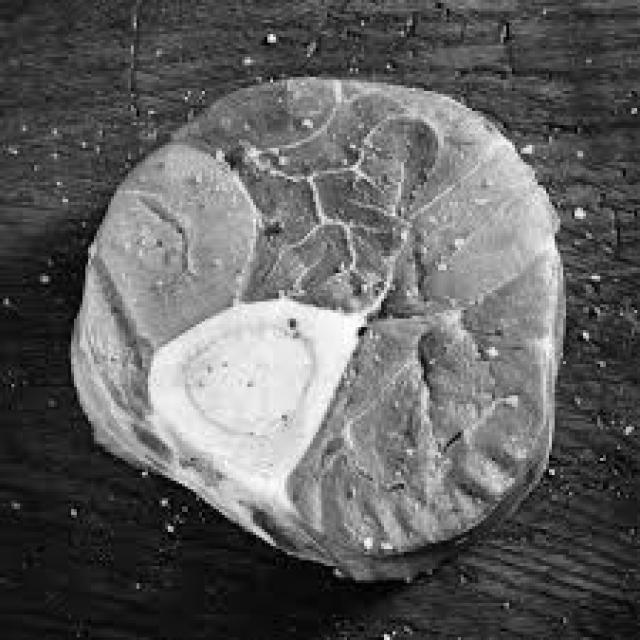ham hock: (62, 74, 560, 580)
